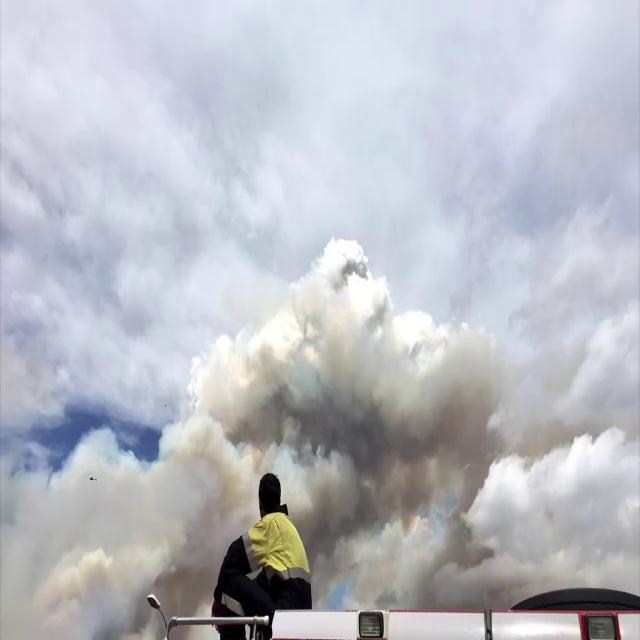Smoke: (15, 225, 621, 605)
